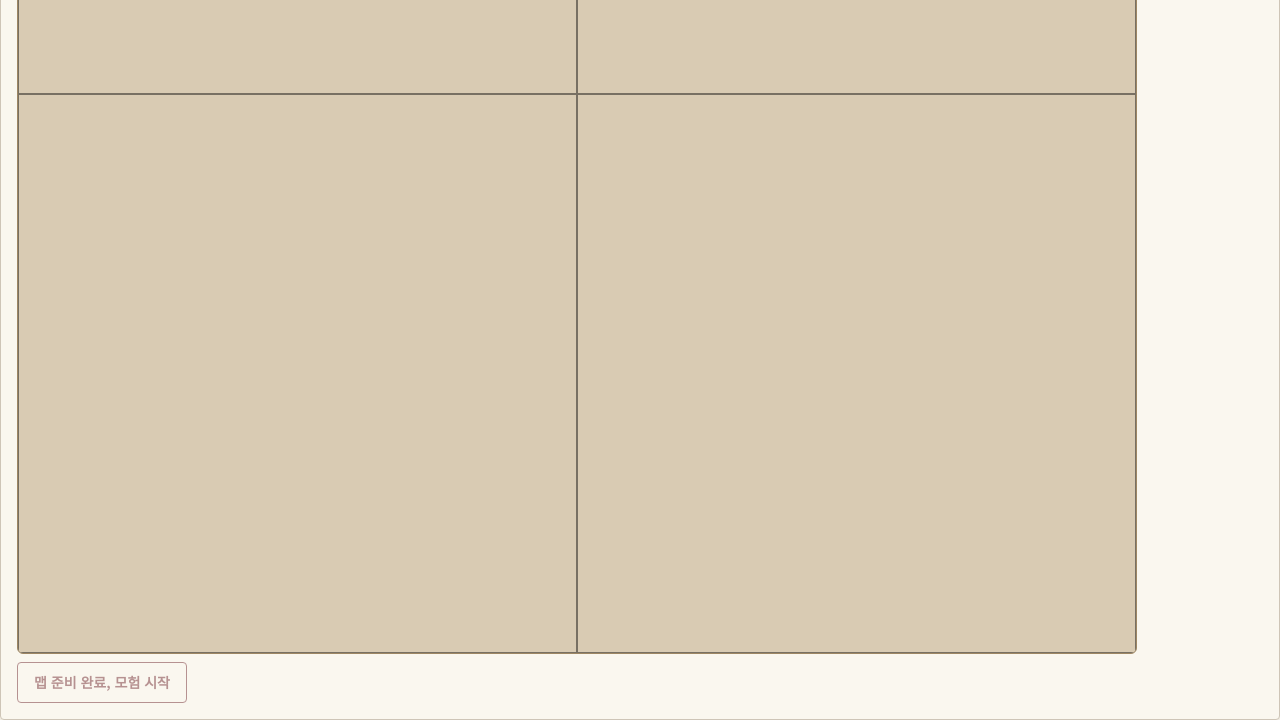
Test: allows selecting a start cell directly on the preparation map outside wall editing
The image size is (1280, 720).
(page scrolled)
Step 1. Click the button named "빈 격자 1,1" → click(856, 374), box [577,94,1136,653]
(page scrolled)
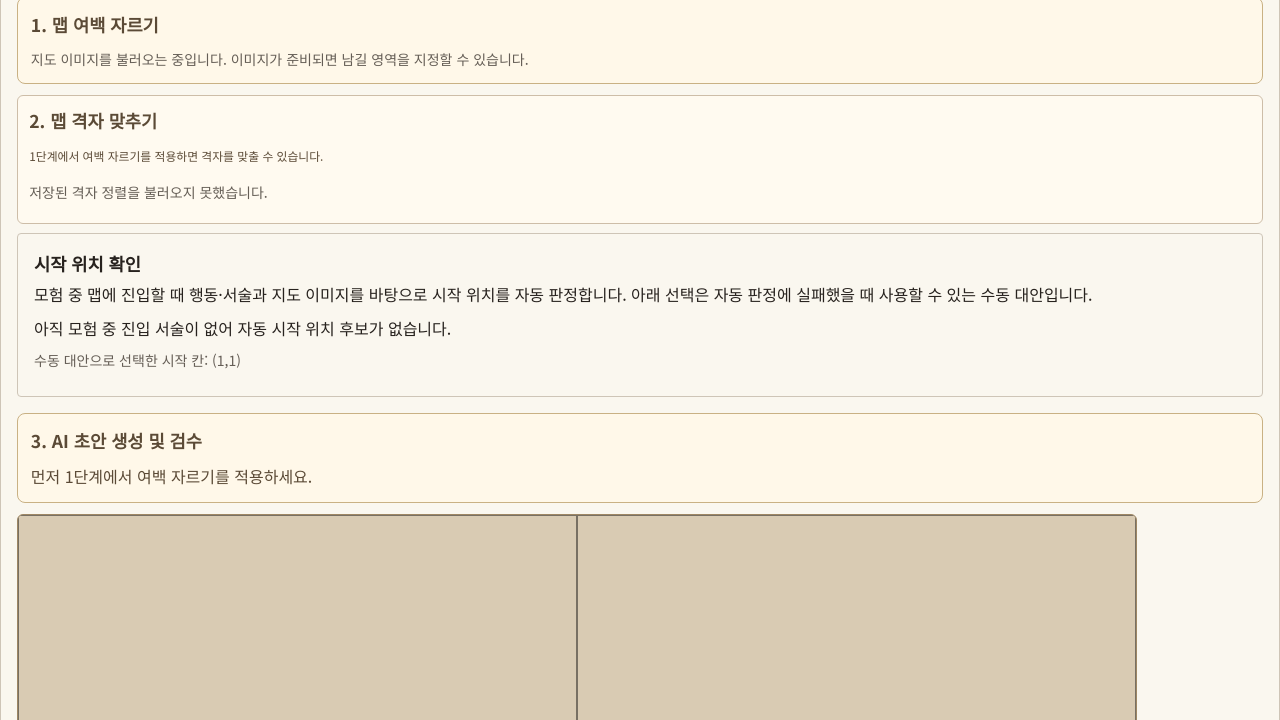
Check: the text "수동 대안으로 선택한 시작 칸: (1,1)" is shown, box [34,350,241,370]
